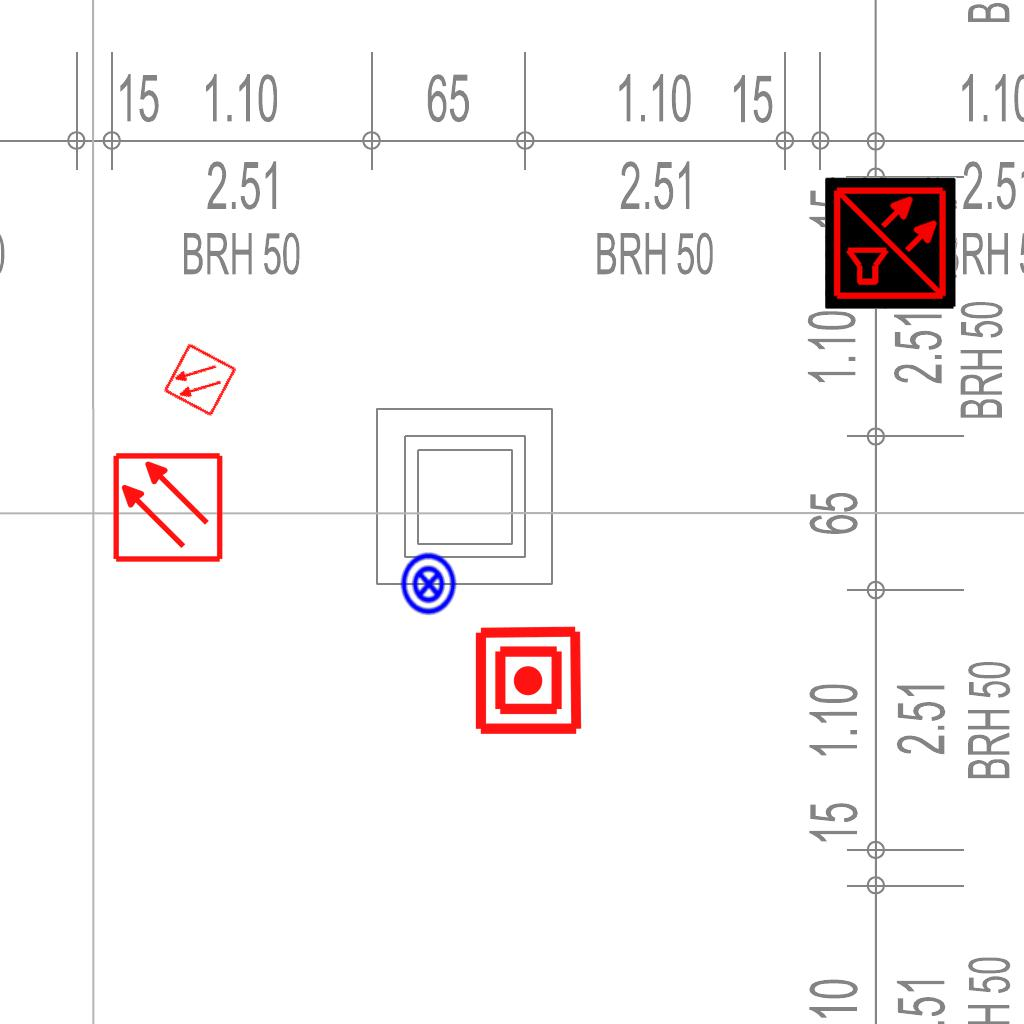NAM-Nichtautomatischer_Melder: (472, 624, 585, 737)
OKW_Multisensormelder_(Kombination_optischer_Rauch-Kahlenmonoxid_Waerme-Melder): (825, 177, 957, 309)
RMO_Rauchmelder_optischer: (111, 451, 224, 564), (162, 342, 238, 418)
Taster_beleuchtet: (396, 551, 462, 617)
